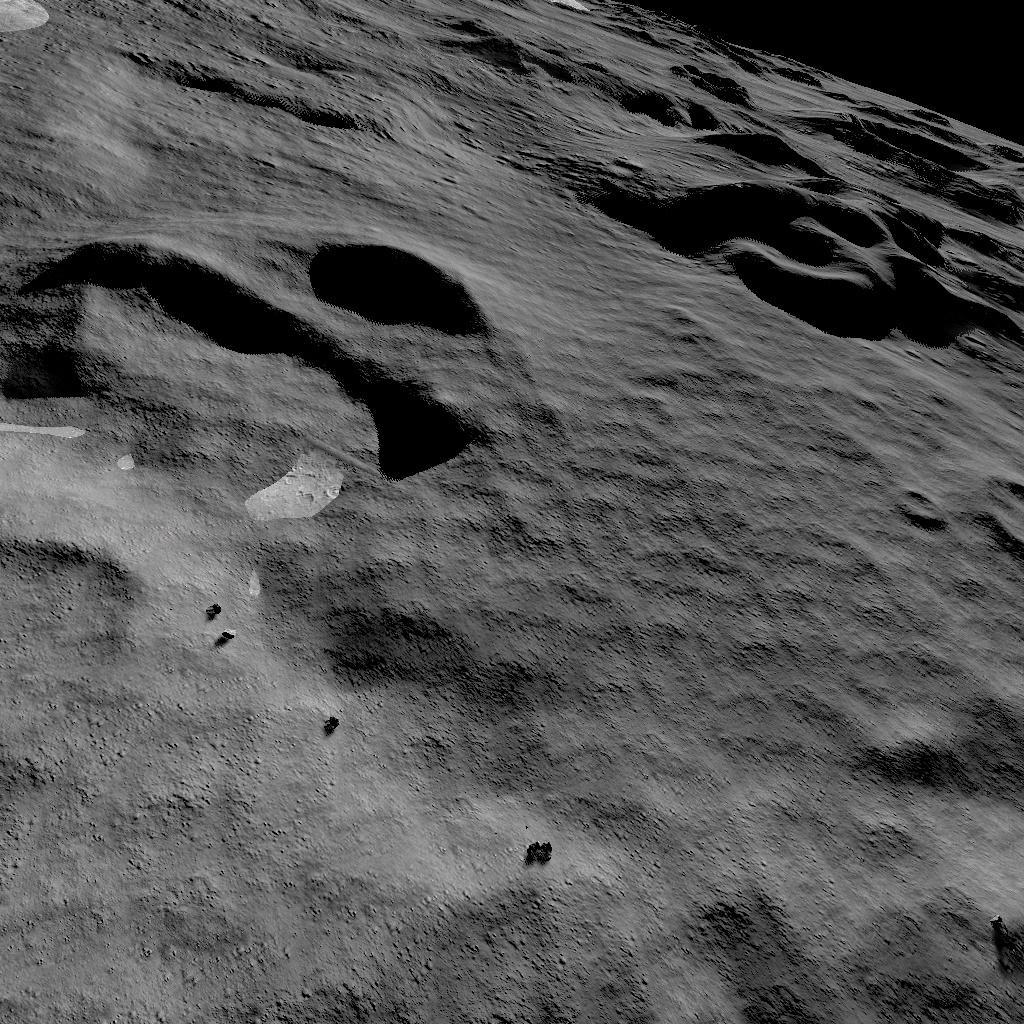Boulders: (0, 0, 111, 98)
Crater: (553, 102, 1024, 408), (0, 240, 523, 508), (0, 524, 154, 767), (877, 514, 1024, 616)
Plan surface: (553, 436, 850, 882), (2, 784, 490, 1024), (571, 892, 1024, 1024)
